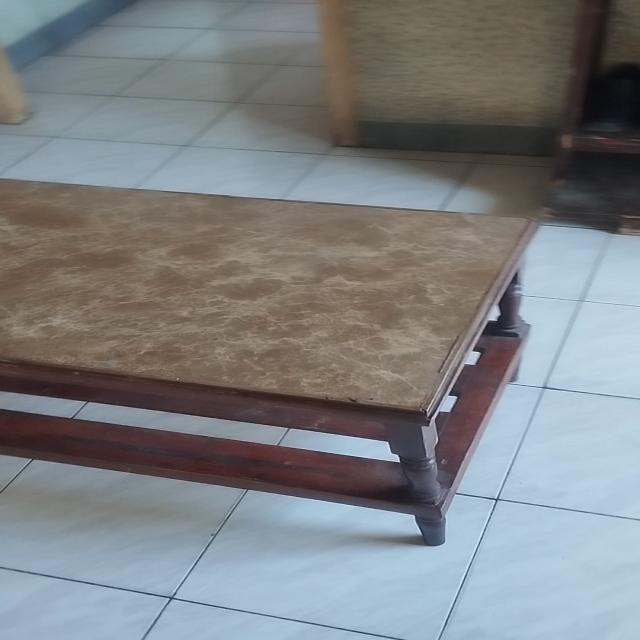table: (0, 170, 547, 566)
